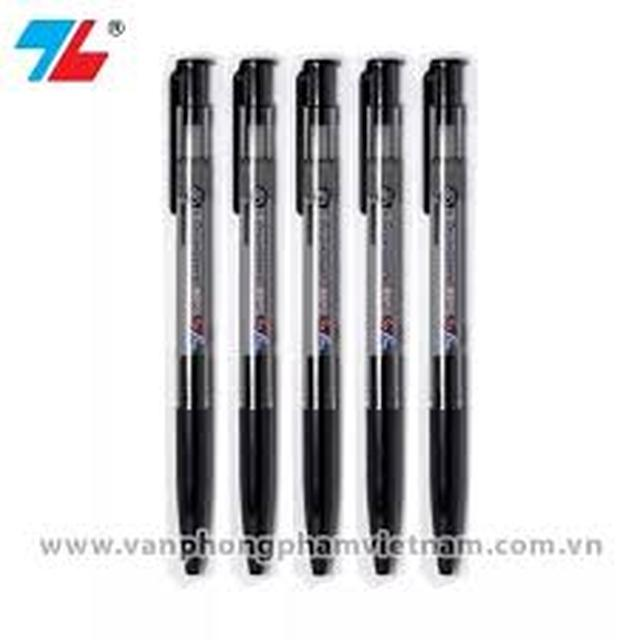pen: (145, 43, 224, 586), (212, 47, 286, 584), (342, 53, 416, 582), (274, 48, 344, 580), (418, 49, 480, 598)
